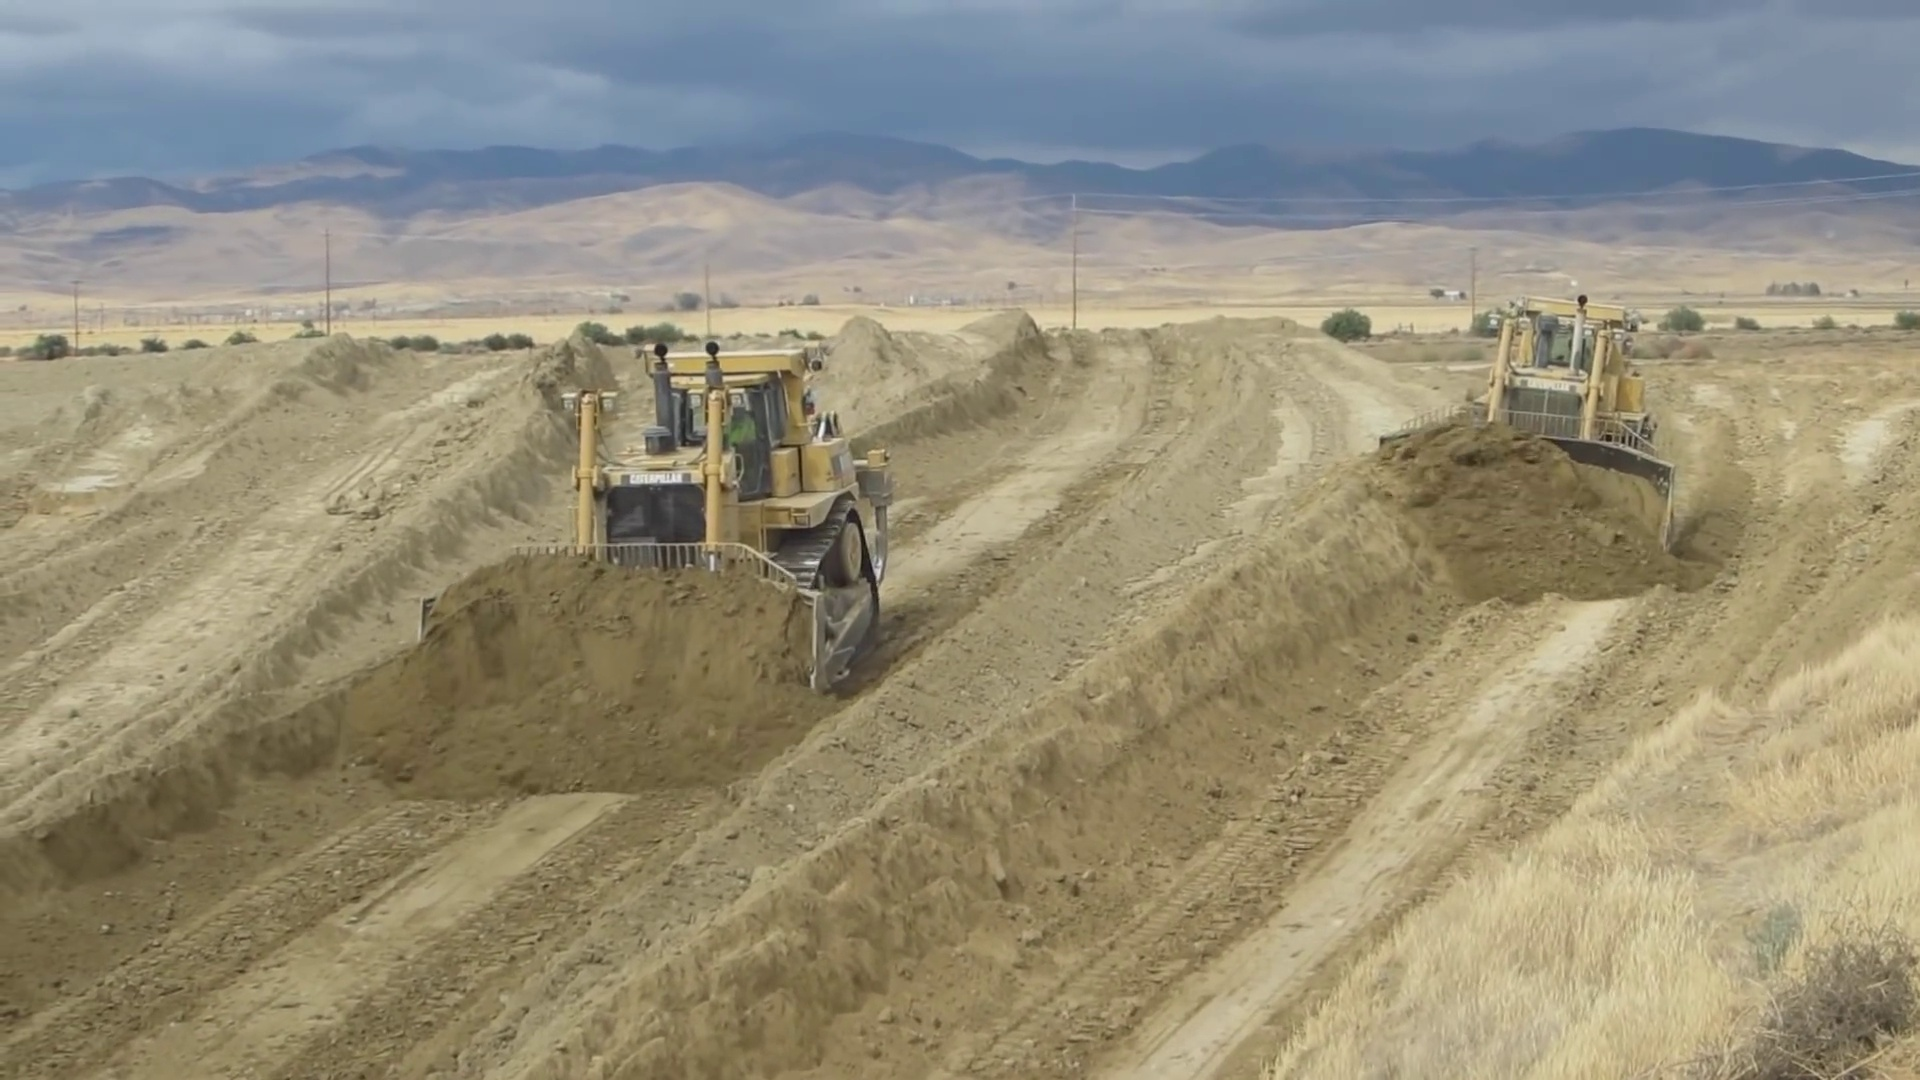bulldozer: (418, 345, 889, 720), (1382, 290, 1675, 601)
